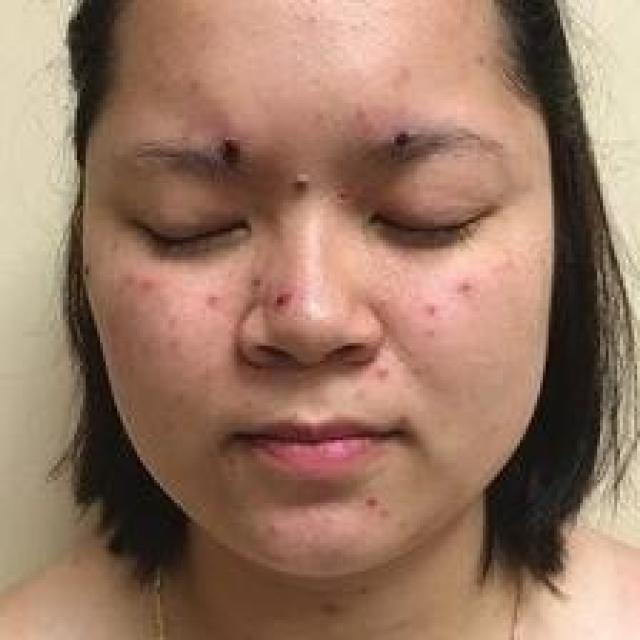others: (80, 0, 529, 597)
